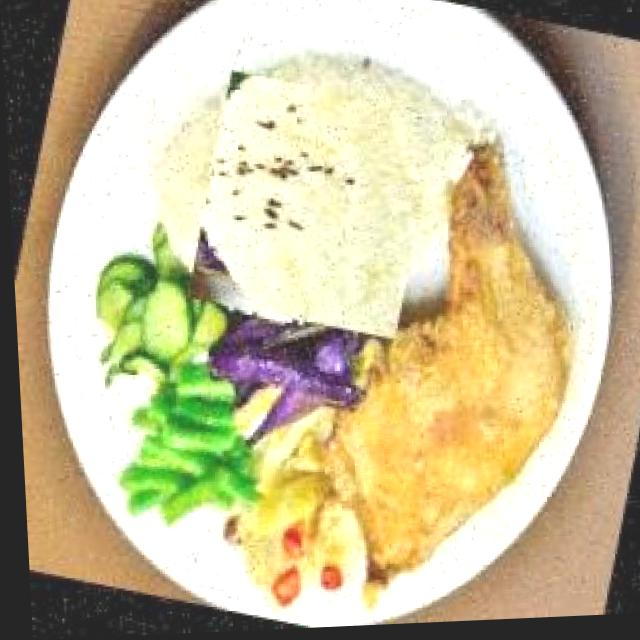rice: (170, 68, 449, 347)
